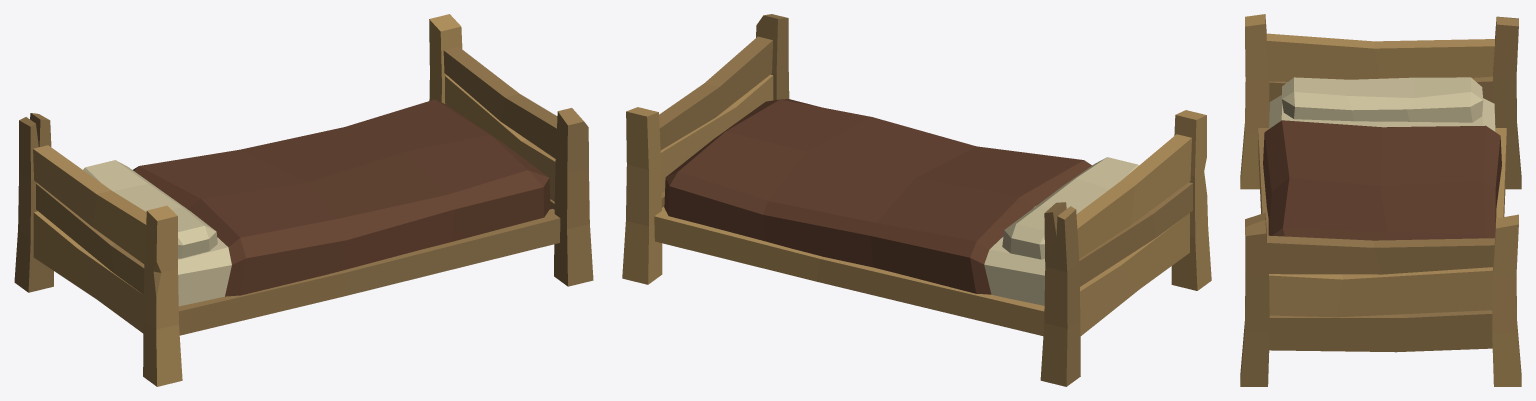
Rendered from Bed.gltf.
The picture shows the model from 3 angles, left to right: view 1: azimuth 30°, elevation 25°; view 2: azimuth 150°, elevation 25°; view 3: azimuth 270°, elevation 25°; orthographic projection. The views are drawn at different scales.
Parts seen in each view (by area): view 1: Bed2; view 2: Bed2; view 3: Bed2.
Part boxes in pixels (<box>): Bed2: <box>14,14,593,386</box>; Bed2: <box>622,14,1211,386</box>; Bed2: <box>1240,14,1521,386</box>.
Bounding box in the file's own units: 0.6288 × 0.2328 × 0.3561.
Materials: 1 (1 with a texture image).
